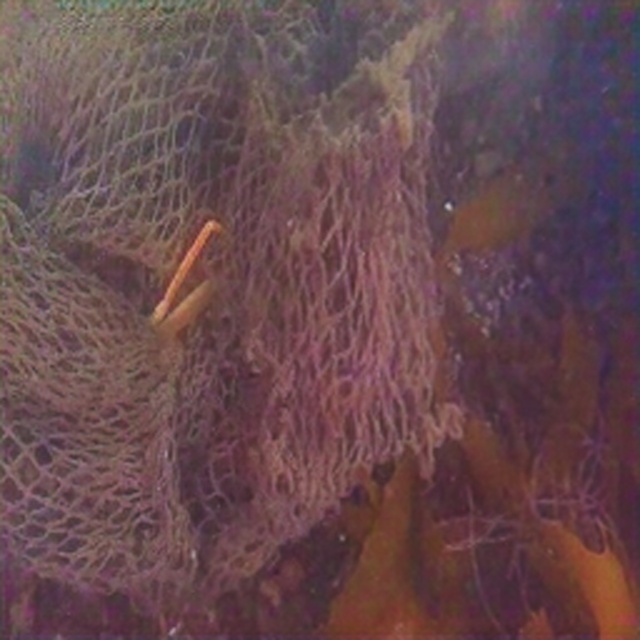mine: (0, 0, 442, 613)
